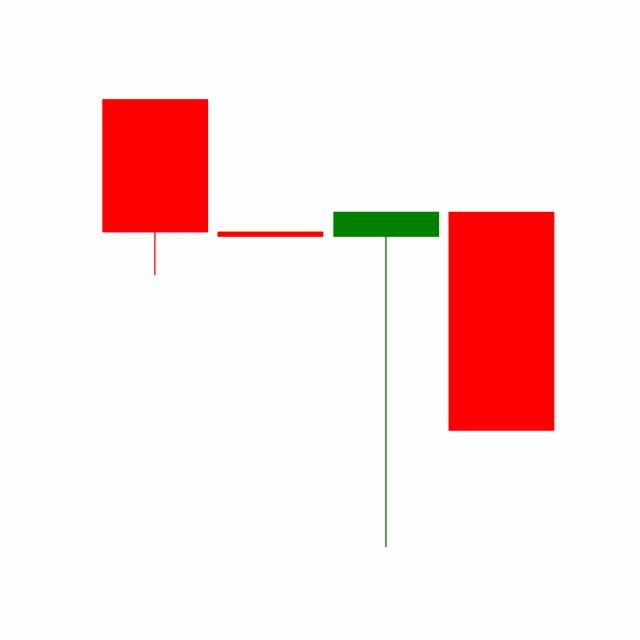Marubozu: (443, 208, 559, 433)
